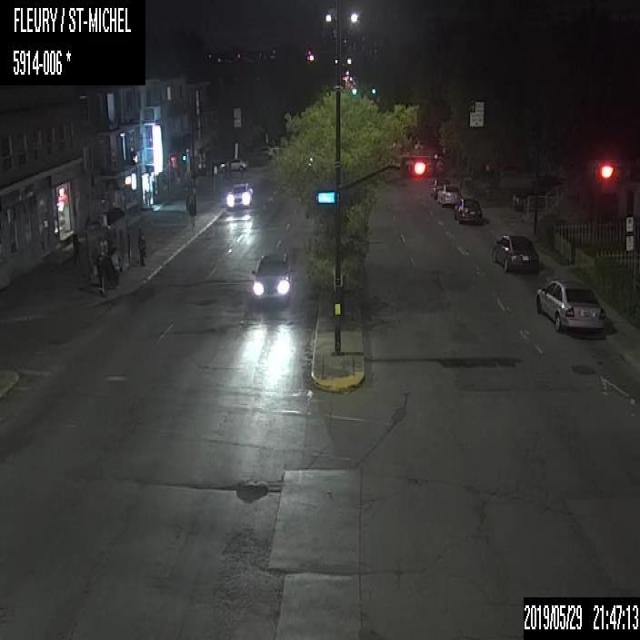pedestrian: (137, 222, 145, 266), (187, 188, 196, 224), (72, 228, 80, 264)
vehicle: (536, 274, 606, 332), (250, 250, 293, 310), (490, 234, 538, 271), (225, 180, 253, 210), (454, 196, 482, 223), (436, 184, 459, 207), (430, 177, 450, 200), (218, 158, 246, 170), (261, 145, 270, 160)
